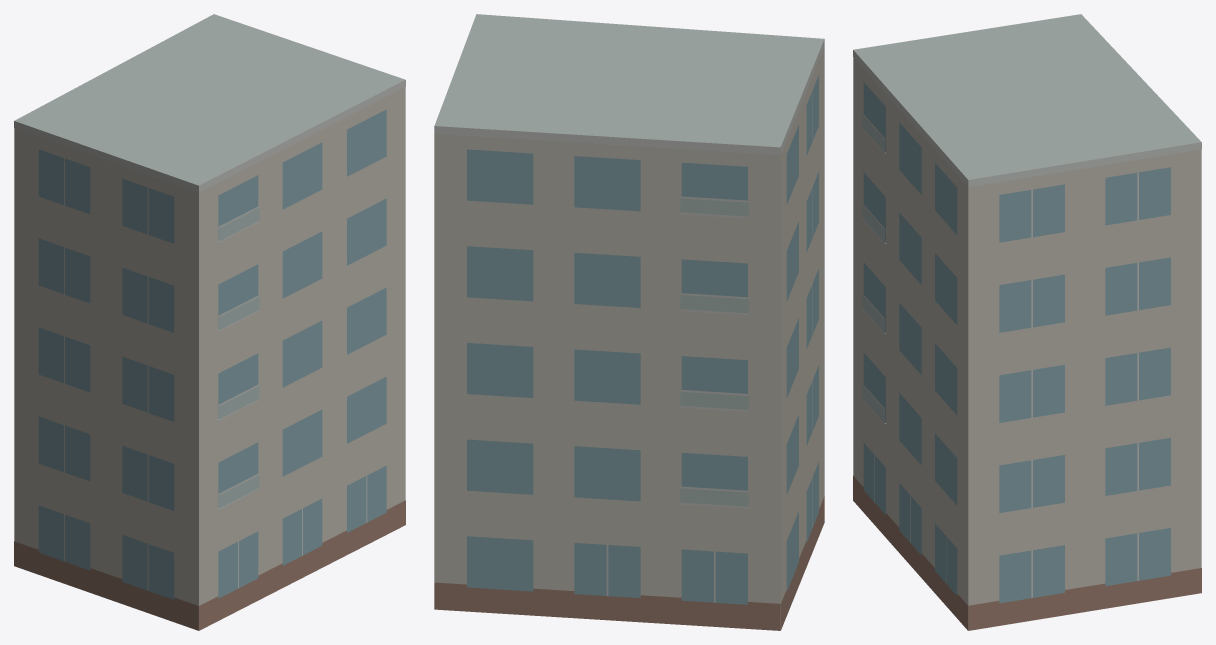
Rendered from residential-70f6304f-a8ea-4815-9d1d-fbb44ff5af88.glb.
3 renders of one model, left to right at view 1: azimuth 30°, elevation 25°; view 2: azimuth 150°, elevation 25°; view 3: azimuth 270°, elevation 25°, orthographic. The views are drawn at different scales.
Visible parts, largest first — view 1: residential-70f6304f-a8ea-4815-9d1d-fbb44ff5af88.tmp; view 2: residential-70f6304f-a8ea-4815-9d1d-fbb44ff5af88.tmp; view 3: residential-70f6304f-a8ea-4815-9d1d-fbb44ff5af88.tmp.
Part boxes in pixels (<box>): residential-70f6304f-a8ea-4815-9d1d-fbb44ff5af88.tmp: <box>14,14,405,630</box>; residential-70f6304f-a8ea-4815-9d1d-fbb44ff5af88.tmp: <box>434,14,824,630</box>; residential-70f6304f-a8ea-4815-9d1d-fbb44ff5af88.tmp: <box>853,14,1201,630</box>.
Size of the model in its own units: 12.05 by 15.25 by 10.7.
